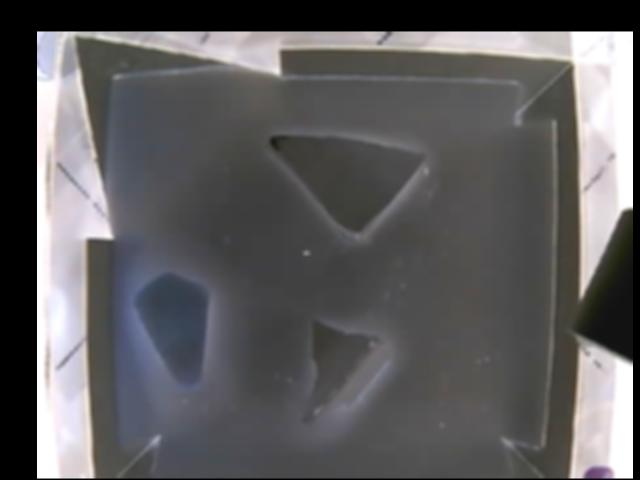China: (265, 136, 431, 238), (296, 322, 389, 422)
Mooli: (136, 268, 209, 389)
